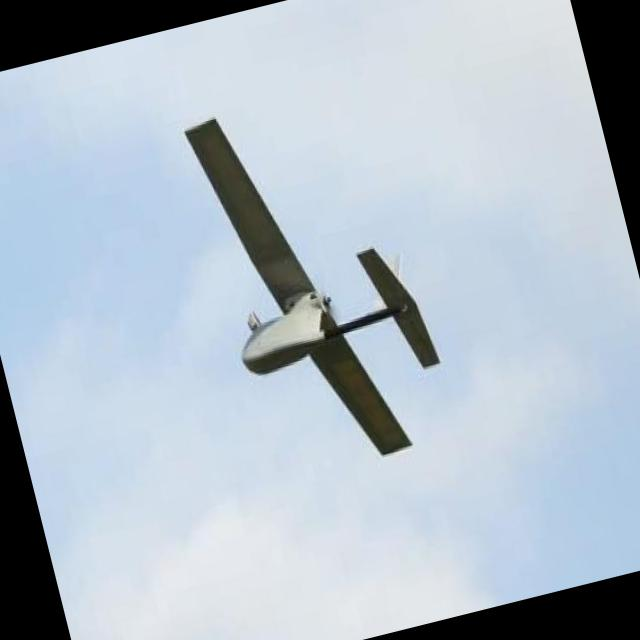UAV: (141, 70, 477, 460)
